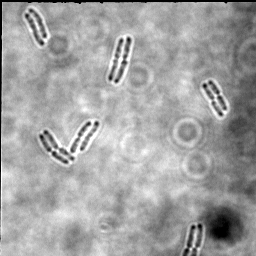Dividing: (42, 130, 75, 162), (38, 133, 70, 166), (113, 36, 132, 86), (201, 82, 225, 118), (106, 37, 124, 82), (70, 121, 93, 154), (23, 13, 45, 47), (207, 79, 229, 112), (27, 8, 48, 40), (79, 120, 100, 152), (180, 224, 197, 255), (189, 223, 204, 255)
